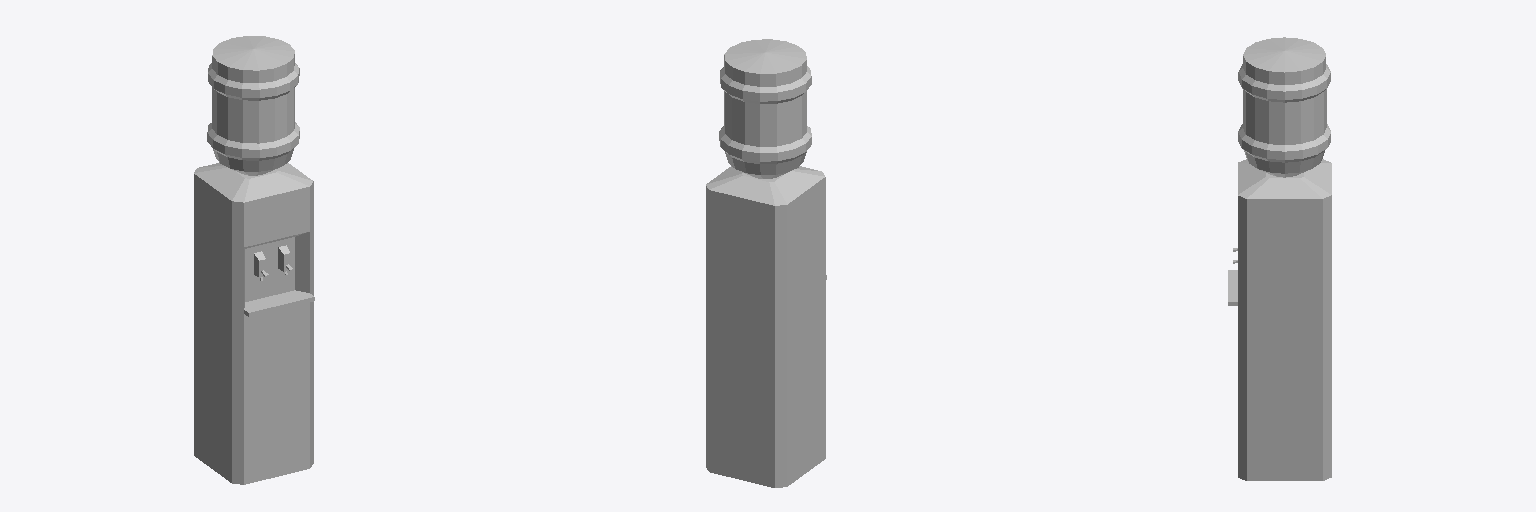
Rendered from watercooler.obj.
3 views of the same model, side by side, from view 1: azimuth 30°, elevation 25°; view 2: azimuth 150°, elevation 25°; view 3: azimuth 270°, elevation 25° (orthographic).
Parts seen in each view (by area): view 1: watercooler_Cube.035; view 2: watercooler_Cube.035; view 3: watercooler_Cube.035.
Part boxes in pixels (bbox=[...]): watercooler_Cube.035: bbox=[194, 36, 314, 484]; watercooler_Cube.035: bbox=[706, 39, 826, 487]; watercooler_Cube.035: bbox=[1228, 37, 1331, 480].
Size of the model in its own units: 3.4 by 16.32 by 3.74.